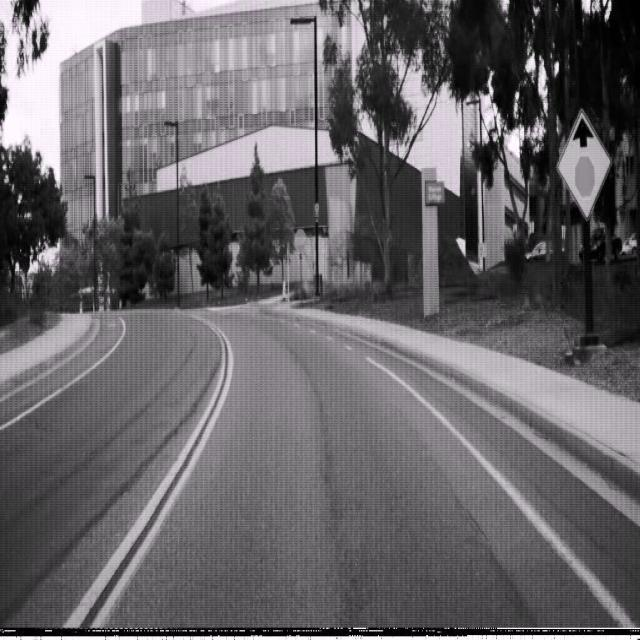stop_sign: (294, 227, 307, 255)
